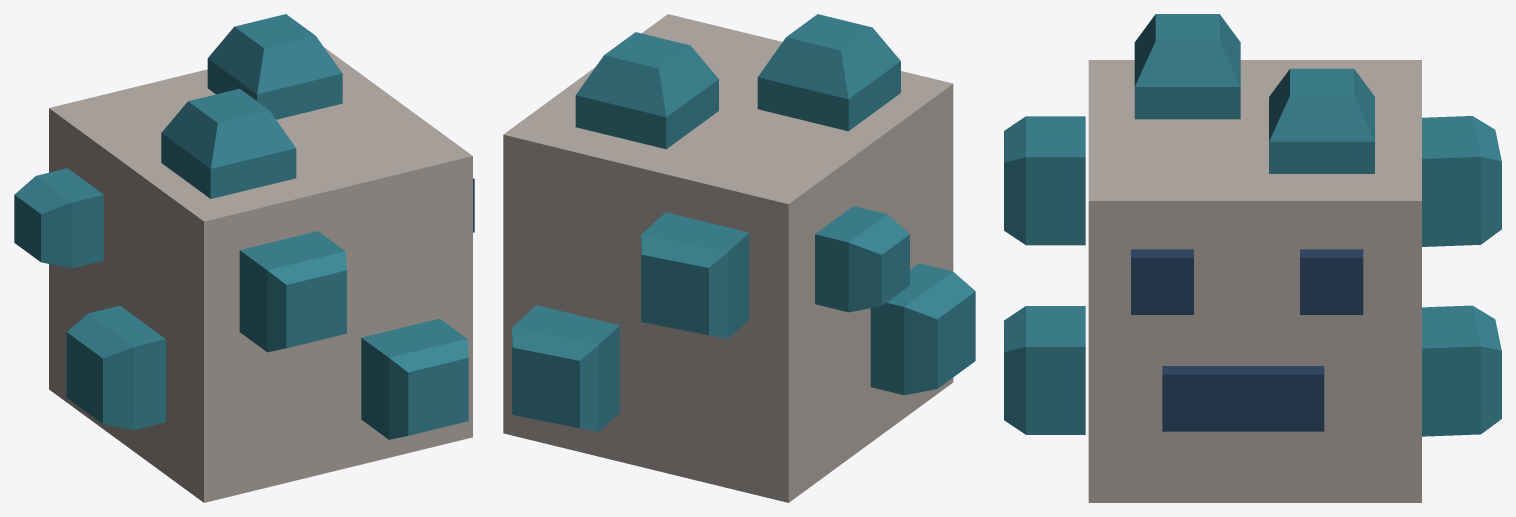
The model's file is LittleShard.fbx.
3 views of the same model, side by side, from view 1: azimuth 30°, elevation 25°; view 2: azimuth 150°, elevation 25°; view 3: azimuth 270°, elevation 25° (orthographic). The views are drawn at different scales.
Parts seen in each view (by area): view 1: Cube.052; view 2: Cube.052; view 3: Cube.052.
Boxes of the visible parts, left/top/right/bottom form: Cube.052: left=14, top=14, right=474, bottom=502; Cube.052: left=503, top=14, right=975, bottom=502; Cube.052: left=1004, top=14, right=1501, bottom=502.
Size of the model in its own units: 0.7023 by 0.6658 by 0.8027.
